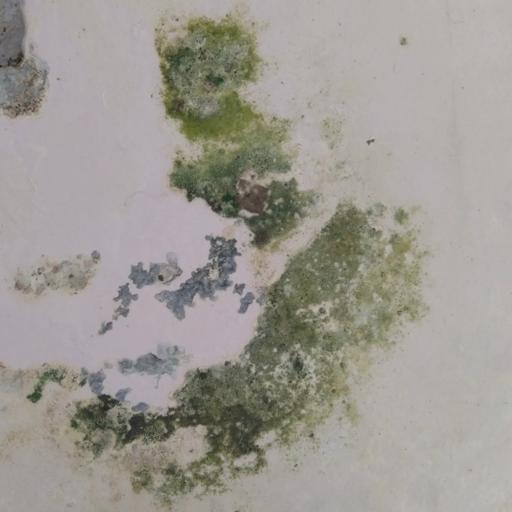algae: (52, 21, 465, 500)
